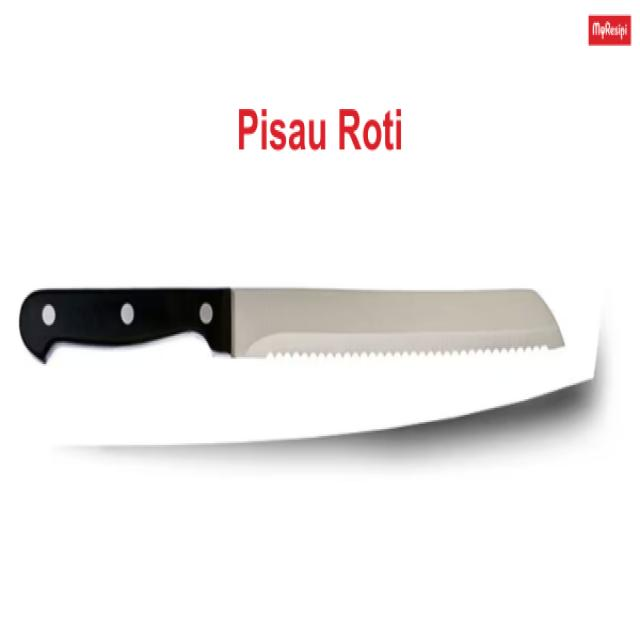Knife: (19, 288, 564, 362)
